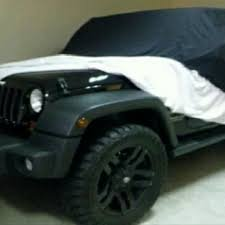mobil: (5, 13, 225, 216)
